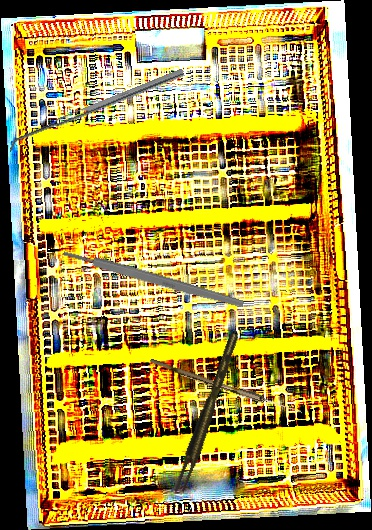Scalpel Handle: (62, 247, 245, 310)
Spatula Surgical: (5, 68, 188, 154)
Surgical Spoon: (148, 358, 304, 416)
Tissue Forceps: (167, 331, 248, 496)
